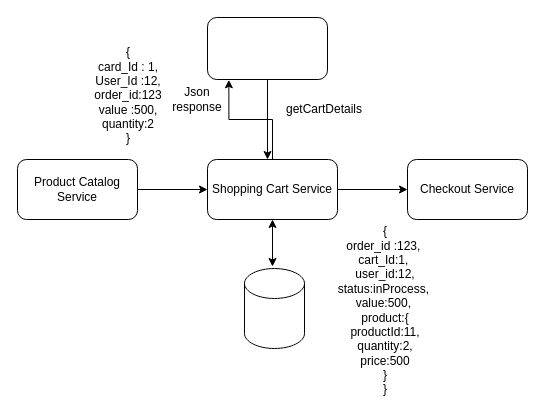
Image size: 545x414. Some labels were removed from this diagram. Here are the shapes that lost their labels. From the top down, the centre of each, then its label:
At [267,48]: "User UI".
At [274,308]: "MySql".
